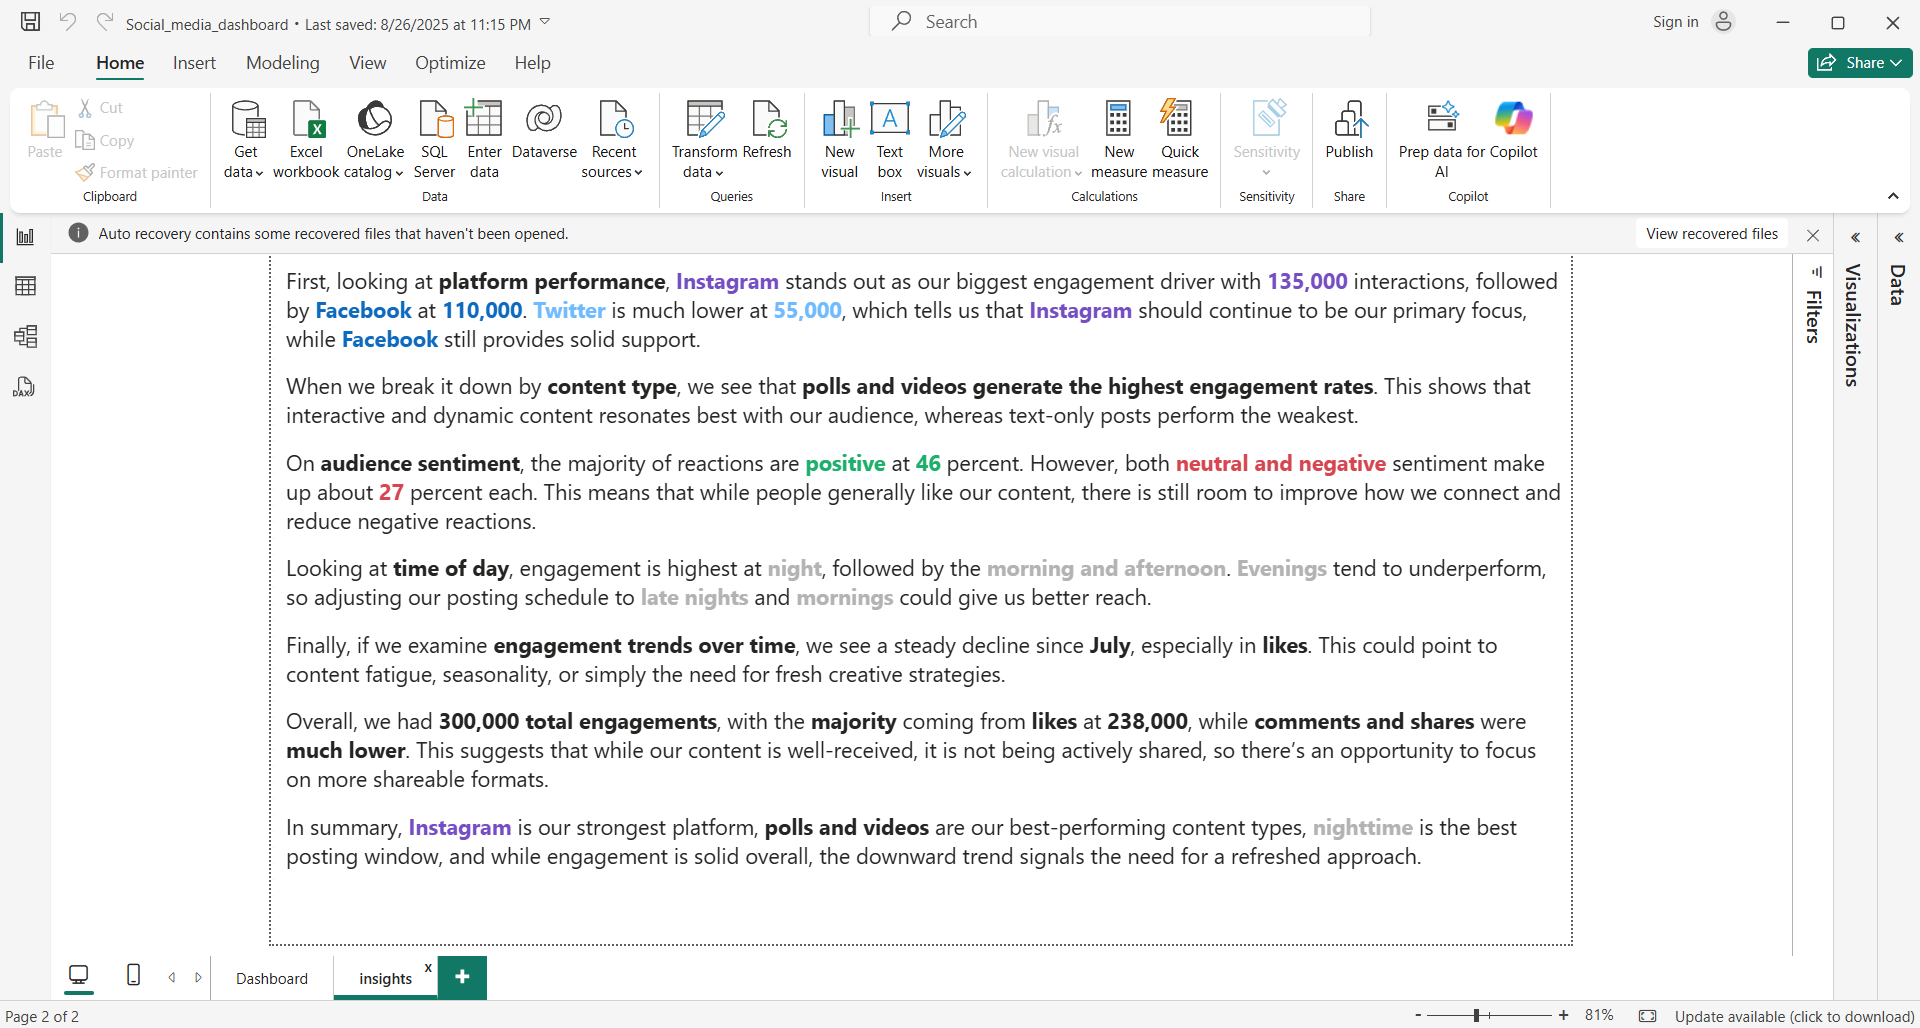

What the dashboard file says about the page in this screenshot:
{"tool":"powerbi","page":{"name":"insights","canvas":[1280,720],"ordinal":1},"visuals":[{"type":"textbox","box":[9.6,0,1270.7,720.4],"z":0}]}

Visuals, with their boxes on the page's 1280x720 design canvas (x1, y1, x2, y2). These are canvas units, not pixel positions in the 1920x1028 screenshot, which may show the page scaled, cropped or inside an application window:
textbox: 10/0/1280/720
